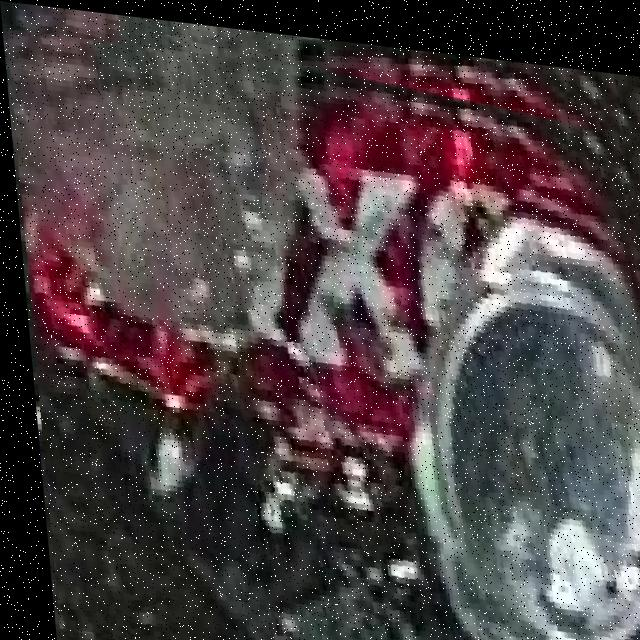litter: (22, 52, 640, 640)
